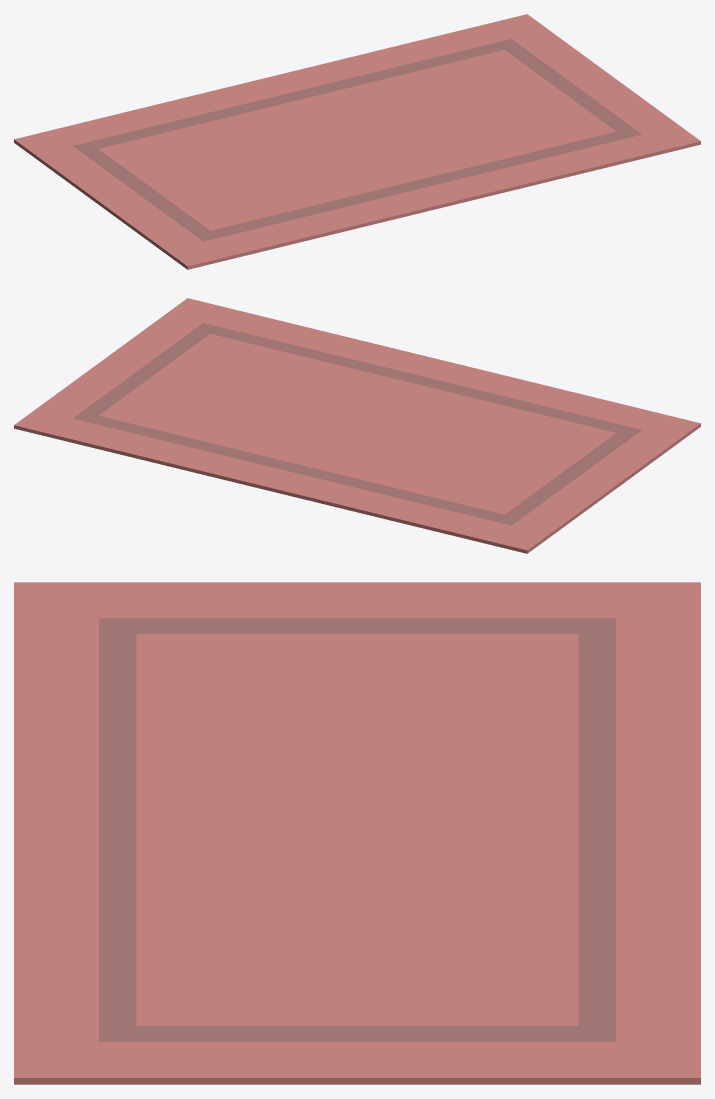
Rendered from kenney_rugRectangle.fbx.
3 views of the same model, one above another, from view 1: azimuth 30°, elevation 25°; view 2: azimuth 150°, elevation 25°; view 3: azimuth 270°, elevation 25° (orthographic). The views are drawn at different scales.
Parts seen in each view (by area): view 1: rugRectangle(Clone); view 2: rugRectangle(Clone); view 3: rugRectangle(Clone).
Part boxes in pixels (x1,y1,x2,y2): rugRectangle(Clone): (14,14,700,269); rugRectangle(Clone): (14,298,700,553); rugRectangle(Clone): (14,582,700,1084).
Bounding box in the file's own units: 157 × 1 × 92.
